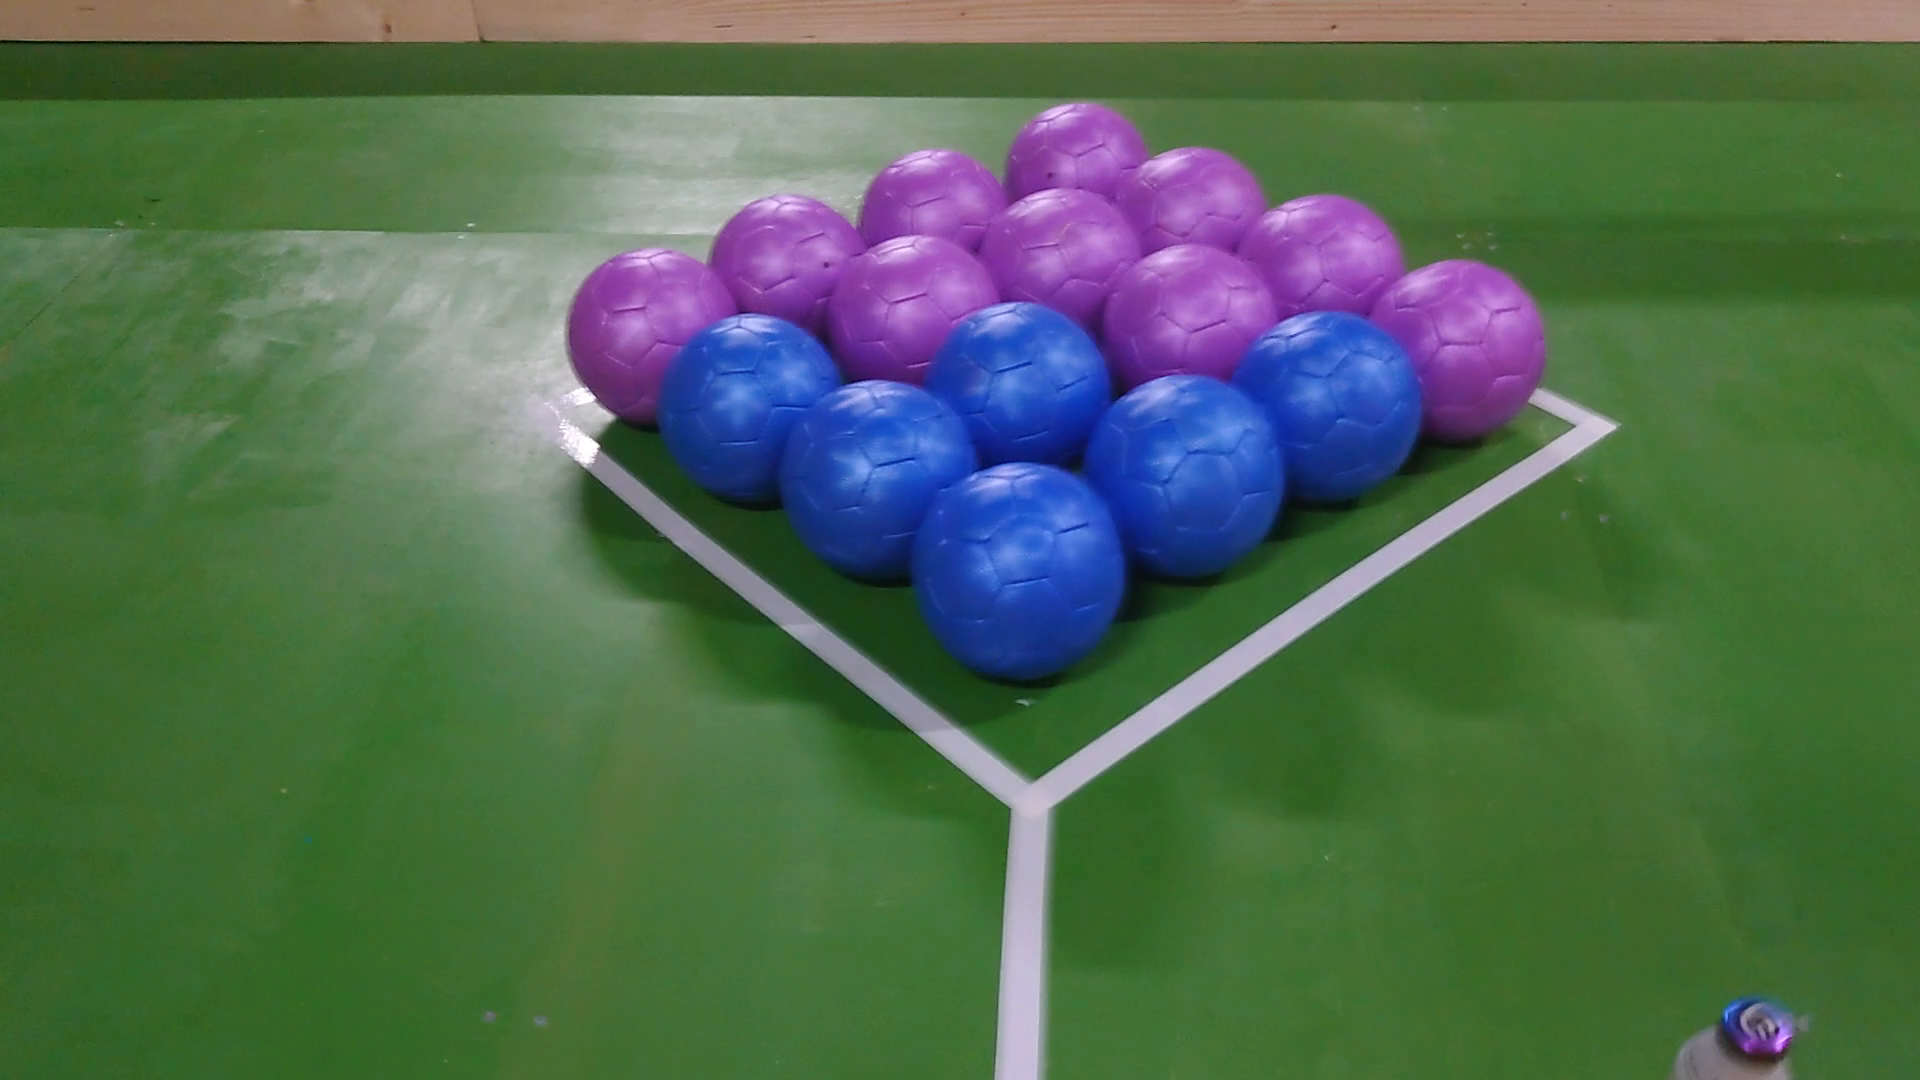blue: (918, 464, 1130, 686), (1084, 378, 1294, 575), (1234, 307, 1431, 506), (659, 314, 849, 509), (783, 385, 973, 575), (920, 301, 1110, 464)
purple: (1371, 255, 1548, 444), (562, 248, 745, 425), (832, 235, 993, 372), (1097, 248, 1274, 372), (1234, 190, 1404, 307), (980, 186, 1143, 301), (858, 144, 1013, 261), (712, 196, 862, 316), (1120, 146, 1267, 261), (1002, 102, 1146, 190)
